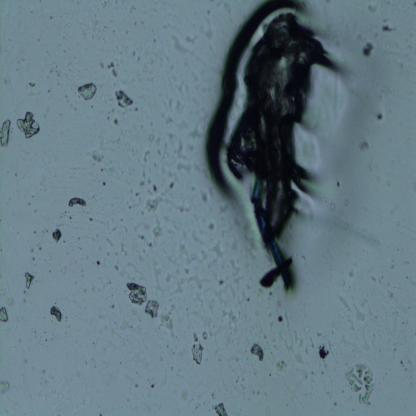Background material: (206, 0, 320, 291), (342, 356, 378, 408), (127, 280, 161, 319), (145, 180, 175, 214), (169, 28, 194, 59), (168, 135, 194, 164), (175, 273, 206, 296), (15, 112, 40, 140), (191, 324, 206, 370), (284, 328, 303, 364), (158, 304, 177, 338), (351, 299, 374, 325), (126, 182, 145, 210), (112, 87, 134, 110), (77, 81, 97, 101), (134, 146, 156, 164), (128, 218, 146, 239), (175, 72, 190, 97), (0, 118, 12, 148), (360, 39, 376, 61), (84, 148, 103, 166), (66, 195, 89, 209), (221, 306, 241, 322), (250, 344, 266, 364), (209, 239, 225, 258), (315, 344, 331, 362), (49, 306, 64, 324), (22, 272, 36, 291), (121, 372, 138, 387), (98, 231, 115, 246), (107, 58, 118, 79), (372, 110, 387, 125), (0, 304, 10, 326), (357, 137, 371, 152), (214, 404, 231, 416), (118, 317, 132, 331), (0, 378, 11, 395), (52, 227, 63, 243), (198, 190, 209, 206), (275, 310, 287, 324), (221, 0, 231, 16), (382, 22, 395, 34), (164, 114, 176, 126), (173, 99, 184, 112), (276, 359, 286, 373), (120, 239, 128, 256), (151, 226, 162, 237), (396, 358, 407, 369), (312, 328, 324, 338), (144, 240, 156, 250), (214, 277, 224, 288), (148, 133, 158, 143), (112, 117, 122, 126), (181, 389, 189, 400), (304, 346, 311, 358), (28, 79, 37, 88), (209, 220, 216, 231), (137, 181, 146, 188), (101, 178, 107, 187), (336, 180, 342, 188), (115, 264, 121, 272), (28, 245, 34, 252), (148, 381, 154, 387), (96, 260, 102, 266), (244, 296, 251, 301), (107, 251, 111, 256), (33, 256, 35, 261)
